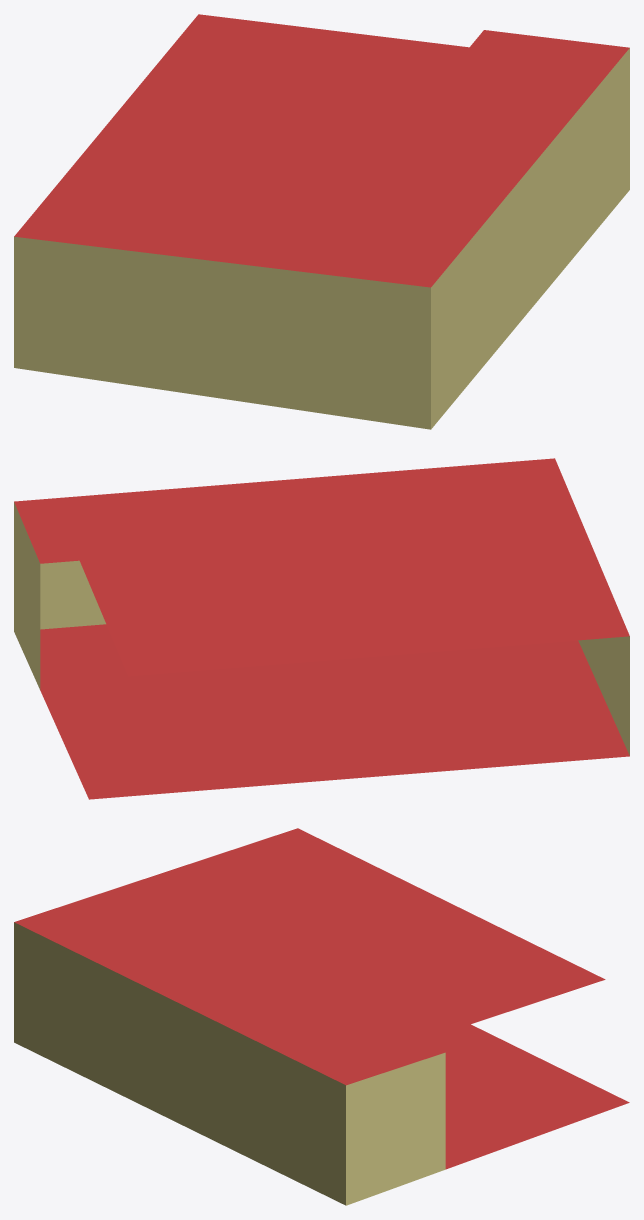
3 views of the same model, one above another, from view 1: azimuth 30°, elevation 25°; view 2: azimuth 150°, elevation 25°; view 3: azimuth 270°, elevation 25° (orthographic). The views are drawn at different scales.
Visible parts, largest first — view 1: group_3, group_4; view 2: group_3, group_5, group_4; view 3: group_3, group_4, group_5.
Part boxes in pixels (x1=…): group_3: x1=14, y1=14, x2=629, y2=287; group_4: x1=14, y1=48, x2=629, y2=429; group_3: x1=14, y1=458, x2=629, y2=676; group_5: x1=40, y1=624, x2=629, y2=799; group_4: x1=14, y1=502, x2=629, y2=755; group_3: x1=14, y1=828, x2=605, y2=1085; group_4: x1=14, y1=922, x2=445, y2=1205; group_5: x1=422, y1=1024, x2=629, y2=1169.
Bounding box in the file's own units: 20.45 × 19.99 × 4.31.
